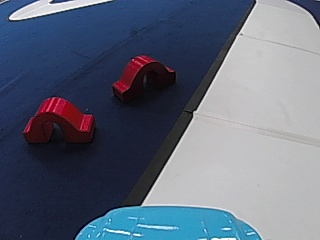bridge: (19, 93, 98, 146), (108, 52, 177, 102)
